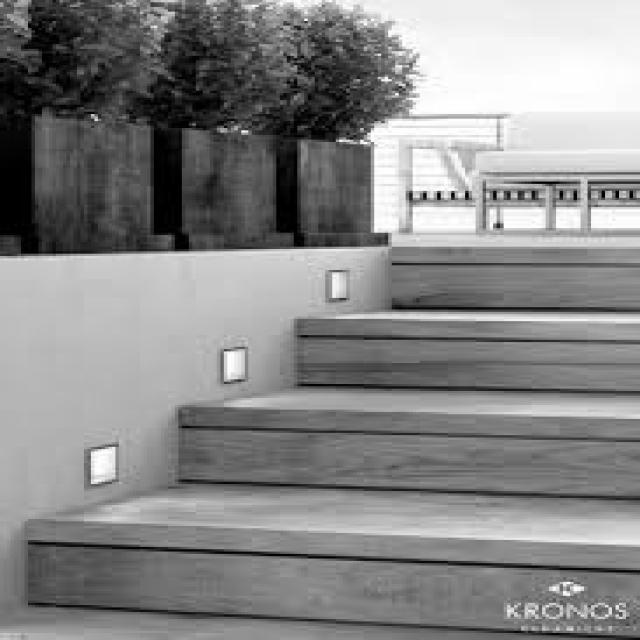stair: (24, 248, 640, 639)
